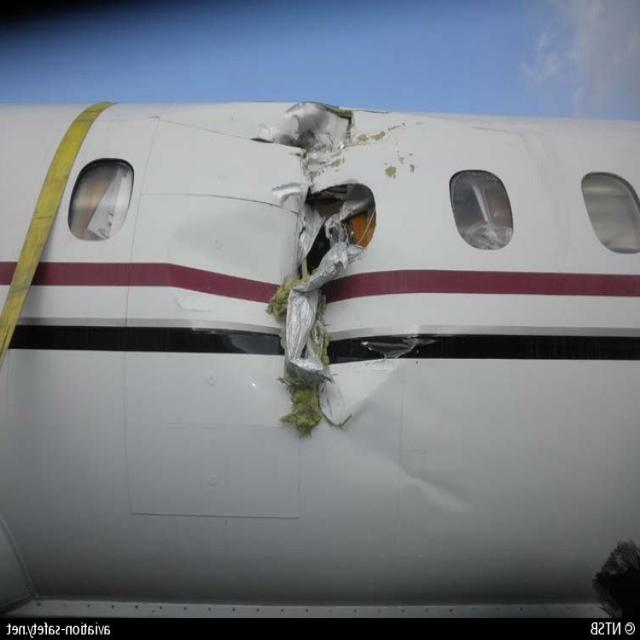crack: (237, 88, 408, 453)
dent: (165, 208, 296, 364), (336, 425, 486, 519)
